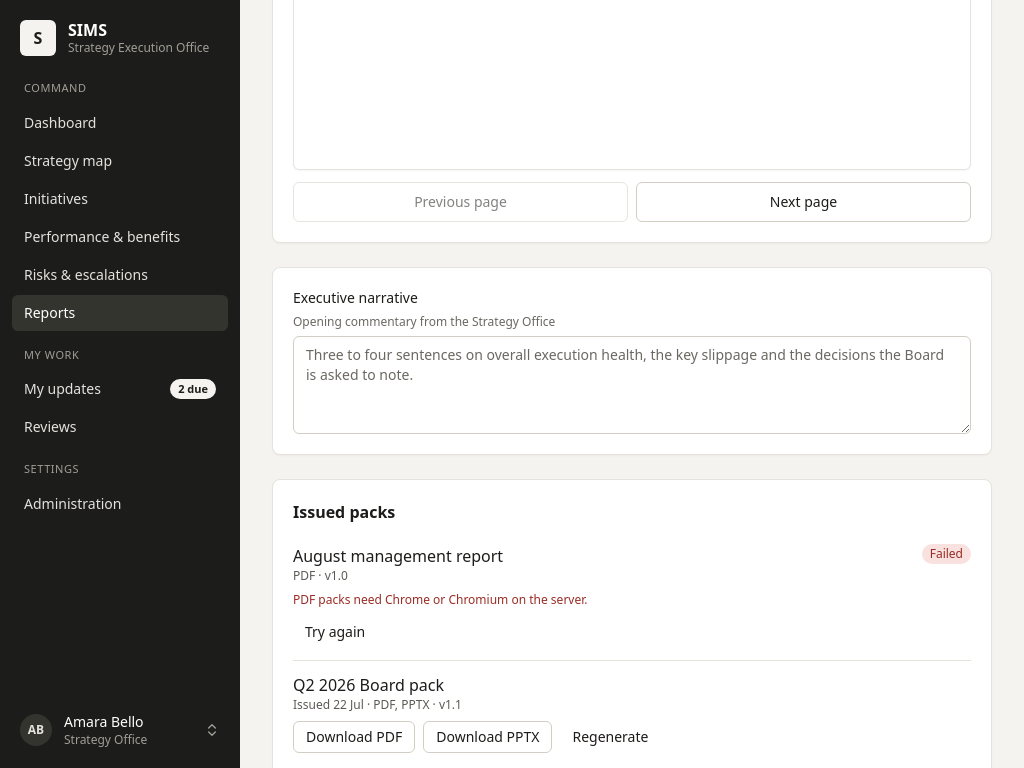
Board pack builder › generates the pack in the chosen formats
(page scrolled)
Type "Digital delivery is slipping." into the text box labelled "Executive narrative" at (632,385), box [293,336,971,434]
(page scrolled)
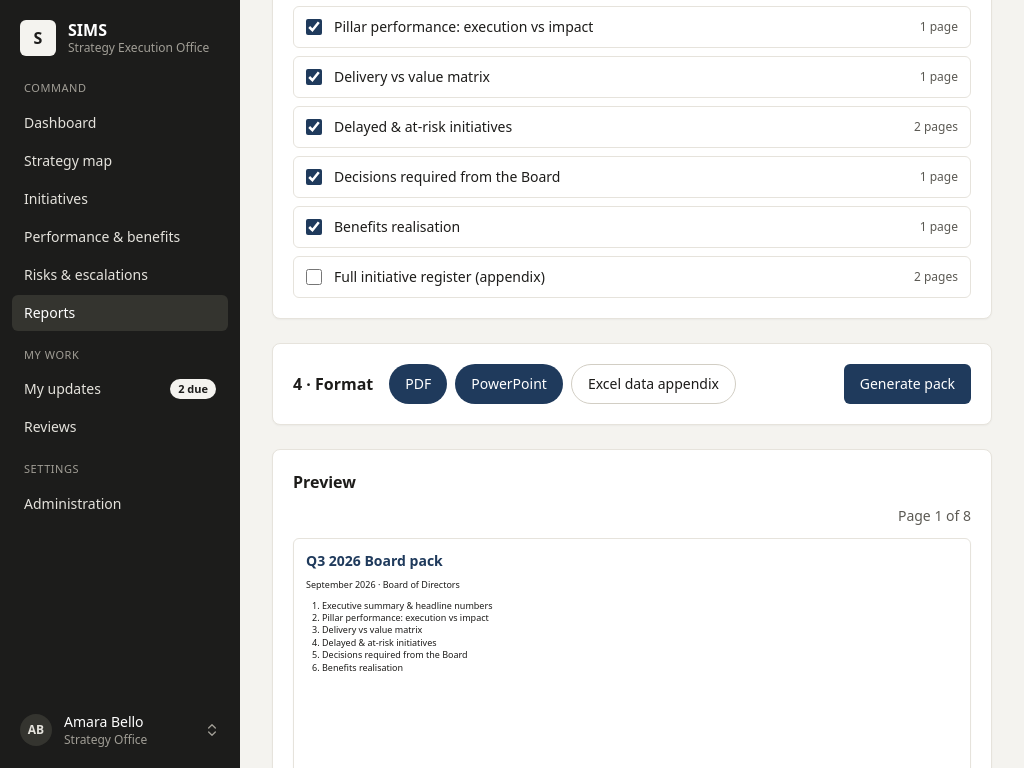
Click the button "Excel data appendix" at (653,384), box [571,364,736,404]
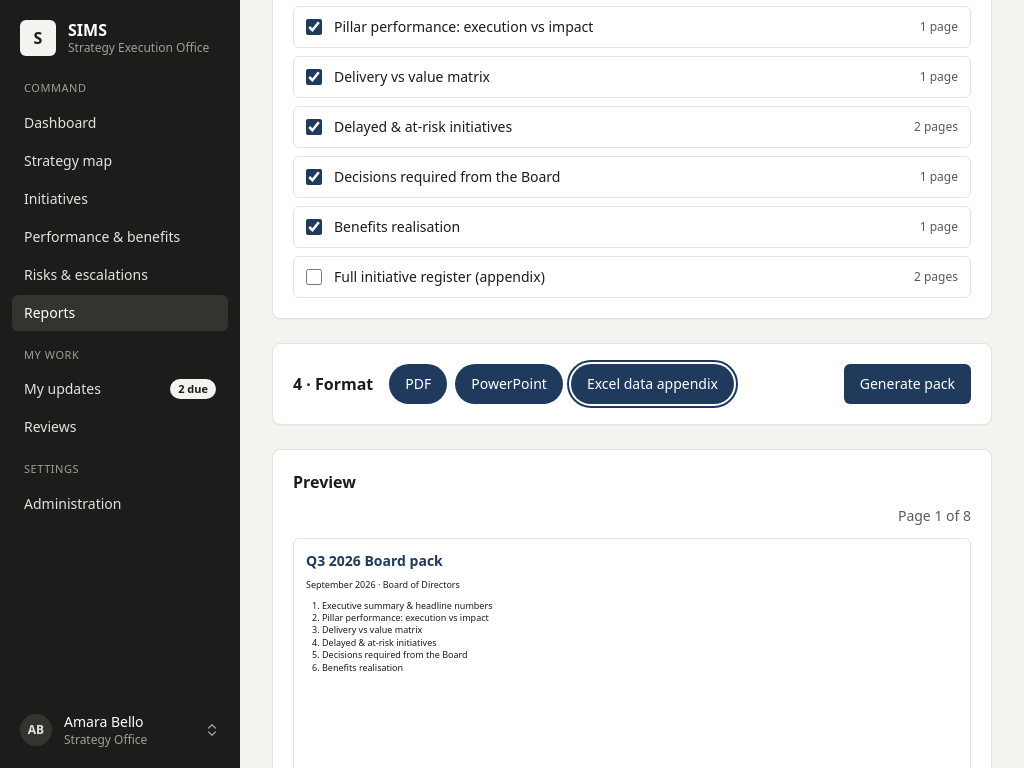
Click the button "PowerPoint" at (509,384), box [455,364,563,404]
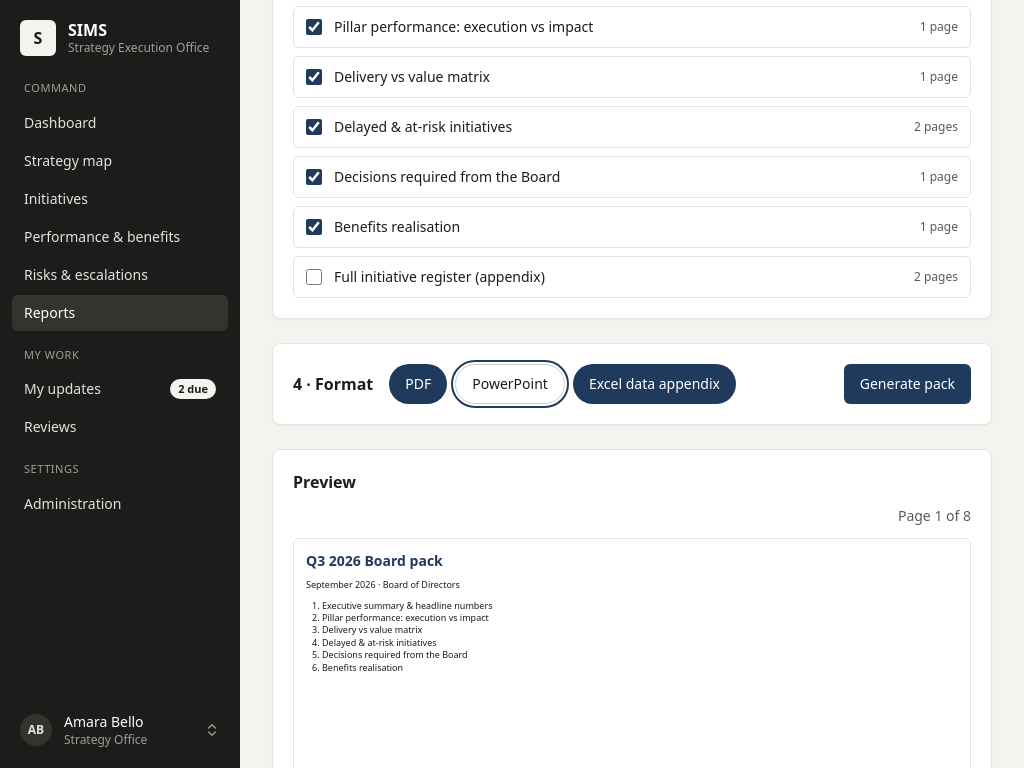
Check: the button "PowerPoint" is not pressed, box [455,364,565,404]
Click the button "Generate pack" at (907,384), box [844,364,971,404]
(page scrolled)
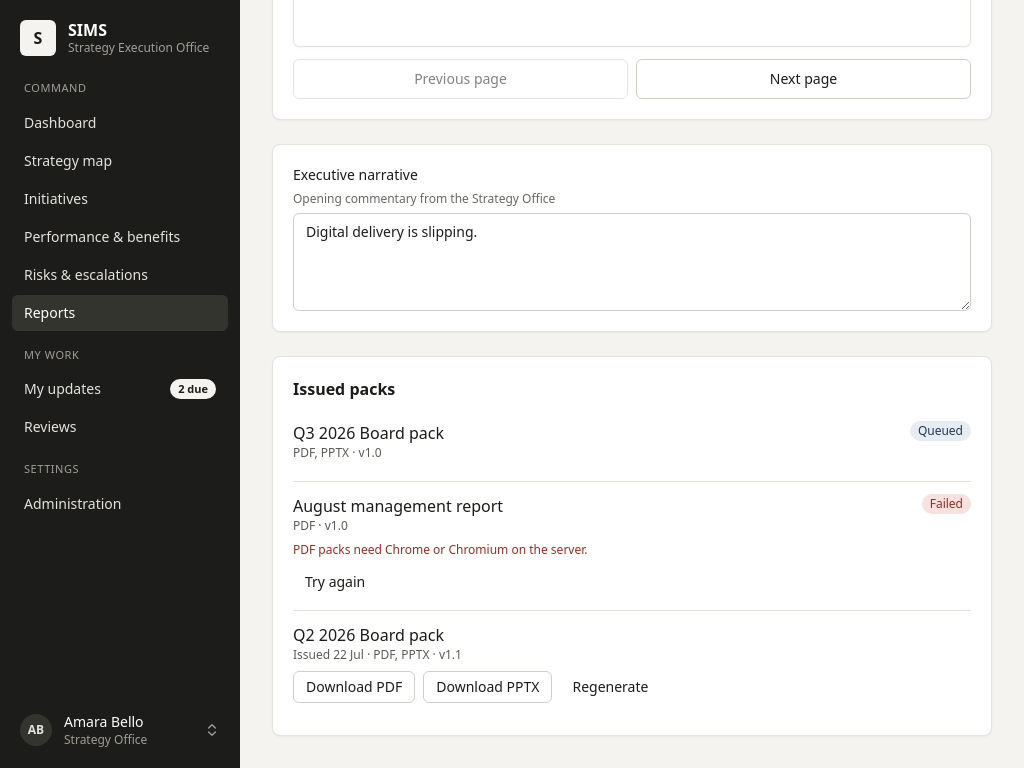
Check: the text "Queued" is shown, box [910,421,971,441]
